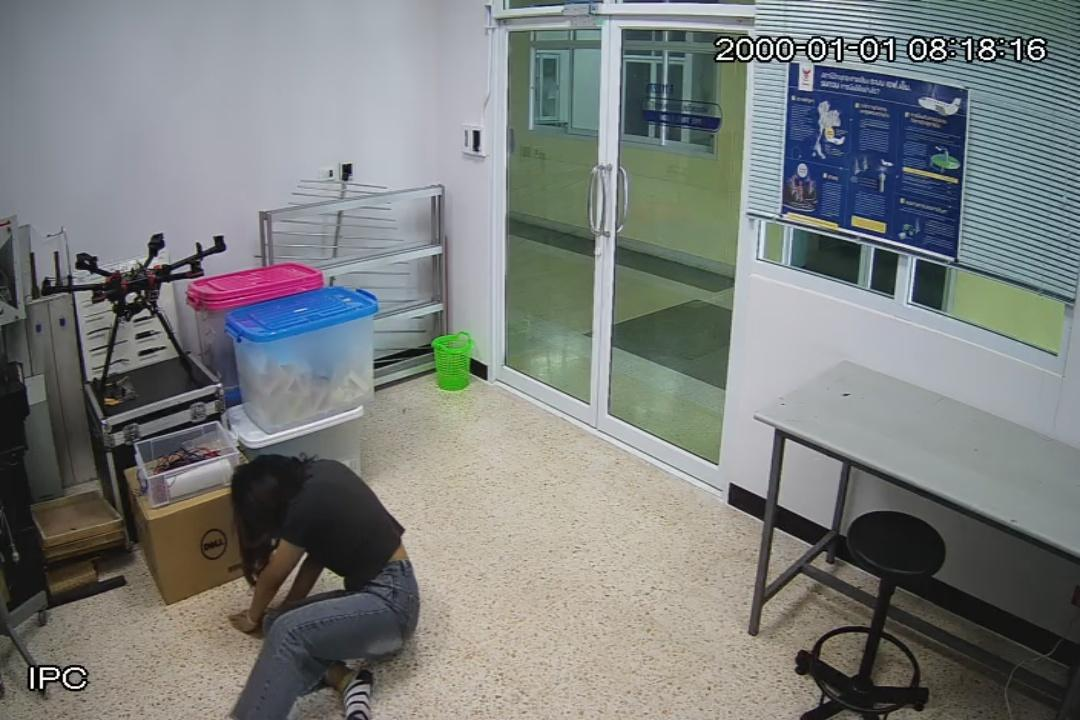fall: (231, 455, 418, 720)
